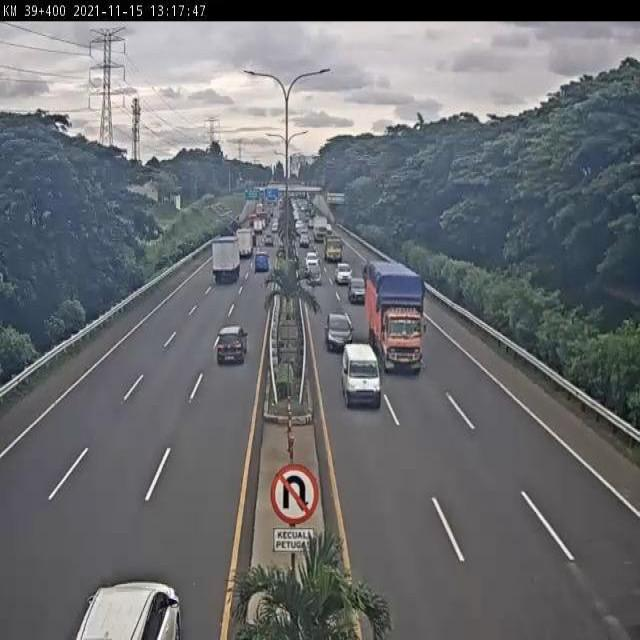car: (215, 324, 249, 365), (324, 311, 354, 353), (347, 275, 368, 304), (305, 263, 324, 289), (335, 261, 353, 287)
small truck: (339, 345, 385, 408)
truck-m-: (365, 260, 429, 371), (214, 236, 245, 283)
